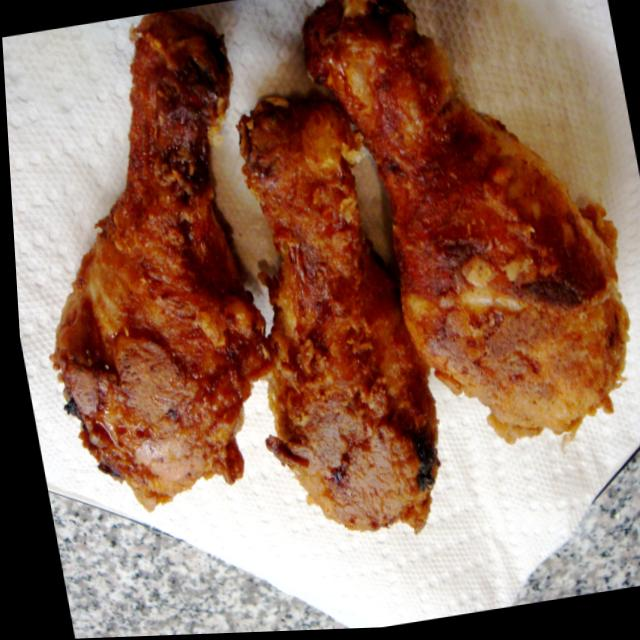Wet: (295, 0, 640, 482), (1, 8, 304, 526), (220, 83, 457, 554)
